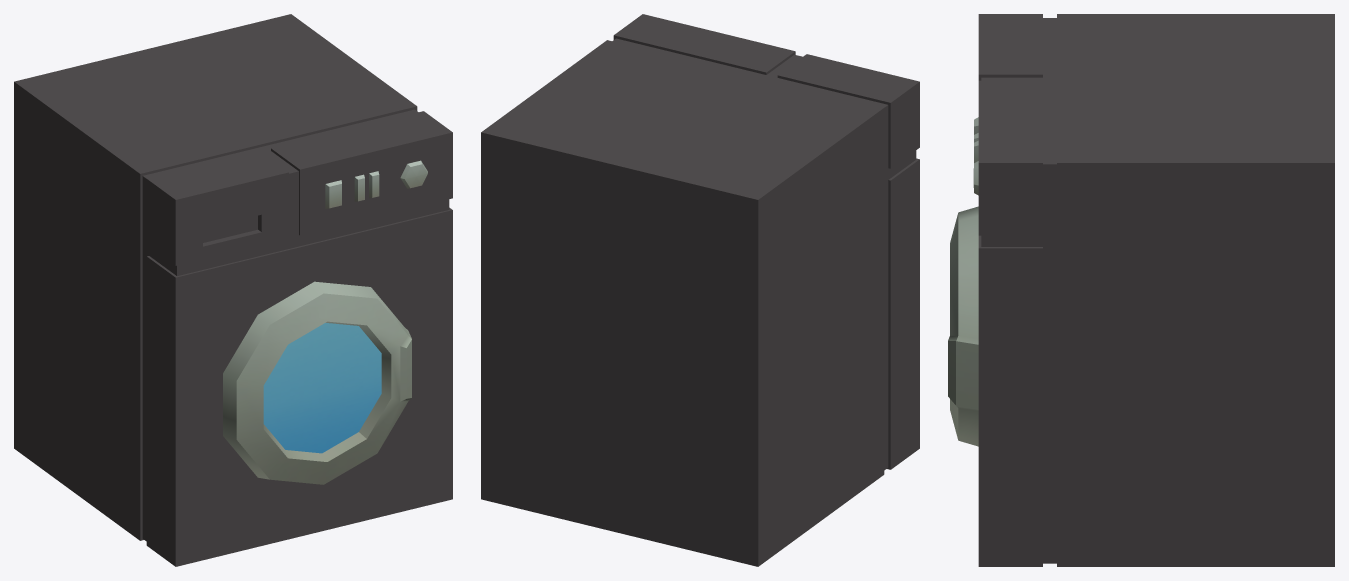
The model's file is SM_Washing_Machine_1_02.fbx.
The picture shows the model from 3 angles, left to right: view 1: azimuth 30°, elevation 25°; view 2: azimuth 150°, elevation 25°; view 3: azimuth 270°, elevation 25°; orthographic projection. The views are drawn at different scales.
Visible parts, largest first — view 1: SM_Washing_Machine_1_02; view 2: SM_Washing_Machine_1_02; view 3: SM_Washing_Machine_1_02.
Boxes of the visible parts, left/top/right/bottom form: SM_Washing_Machine_1_02: left=14, top=14, right=452, bottom=566; SM_Washing_Machine_1_02: left=481, top=14, right=919, bottom=566; SM_Washing_Machine_1_02: left=948, top=14, right=1334, bottom=566.
Bounding box in the file's own units: 85.63 × 108 × 94.05.
